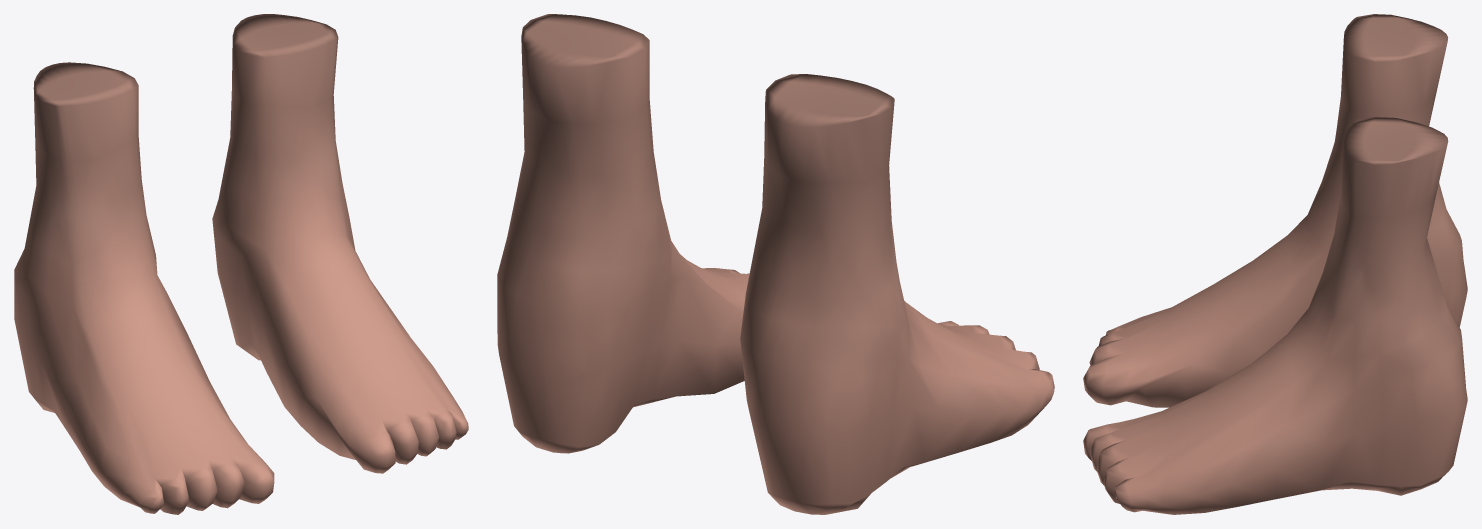
File: asi.fbx
The picture shows the model from 3 angles, left to right: view 1: azimuth 30°, elevation 25°; view 2: azimuth 150°, elevation 25°; view 3: azimuth 270°, elevation 25°; orthographic projection. The views are drawn at different scales.
Visible parts, largest first — view 1: asi:polySurface90, asi:polySurface91; view 2: asi:polySurface90, asi:polySurface91; view 3: asi:polySurface91, asi:polySurface90.
Boxes of the visible parts, box(x1,y1,x2,y2) form: asi:polySurface90: box(14, 62, 274, 514); asi:polySurface91: box(212, 14, 468, 473); asi:polySurface90: box(740, 74, 1054, 514); asi:polySurface91: box(497, 14, 749, 453); asi:polySurface91: box(1083, 117, 1467, 514); asi:polySurface90: box(1083, 14, 1467, 407).
Size of the model in its own units: 1.52 by 1.39 by 1.4.
1 material, 1 textured.
